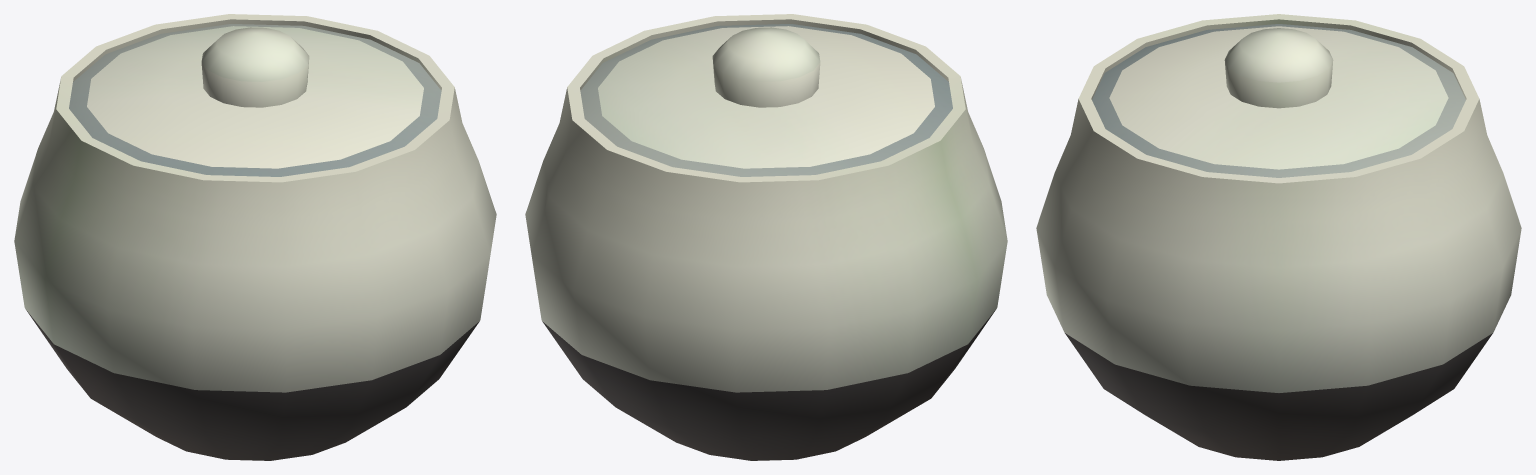
File: prop_sugarpot00.fbx
3 renders of one model, left to right at view 1: azimuth 30°, elevation 25°; view 2: azimuth 150°, elevation 25°; view 3: azimuth 270°, elevation 25°, orthographic.
Parts seen in each view (by area): view 1: prop_sugarpot00; view 2: prop_sugarpot00; view 3: prop_sugarpot00.
Part boxes in pixels (bbox=[...]): prop_sugarpot00: bbox=[14, 14, 496, 460]; prop_sugarpot00: bbox=[525, 14, 1007, 460]; prop_sugarpot00: bbox=[1036, 14, 1521, 460].
Size of the model in its own units: 0.1526 by 0.1316 by 0.1526.
